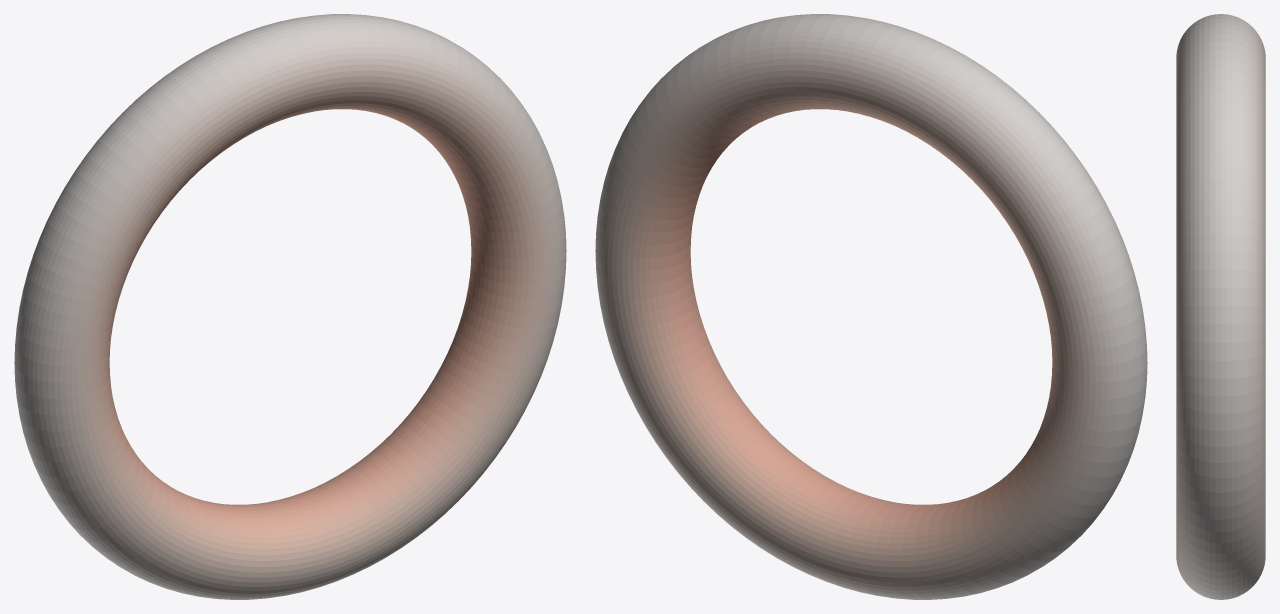
3 renders of one model, left to right at view 1: azimuth 30°, elevation 25°; view 2: azimuth 150°, elevation 25°; view 3: azimuth 270°, elevation 25°, orthographic. The views are drawn at different scales.
Visible parts, largest first — view 1: world; view 2: world; view 3: world.
Boxes of the visible parts, <box> form: world: <box>14,14,566,599</box>; world: <box>595,14,1147,599</box>; world: <box>1176,14,1265,599</box>.
Size of the model in its own units: 32.27 by 32.27 by 4.92.
